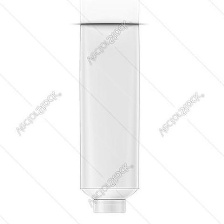carton: (69, 17, 151, 218)
